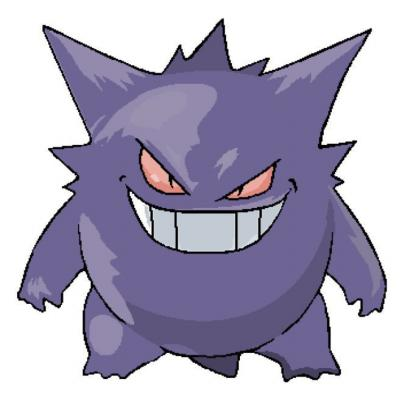Gengar: (1, 1, 416, 389)
